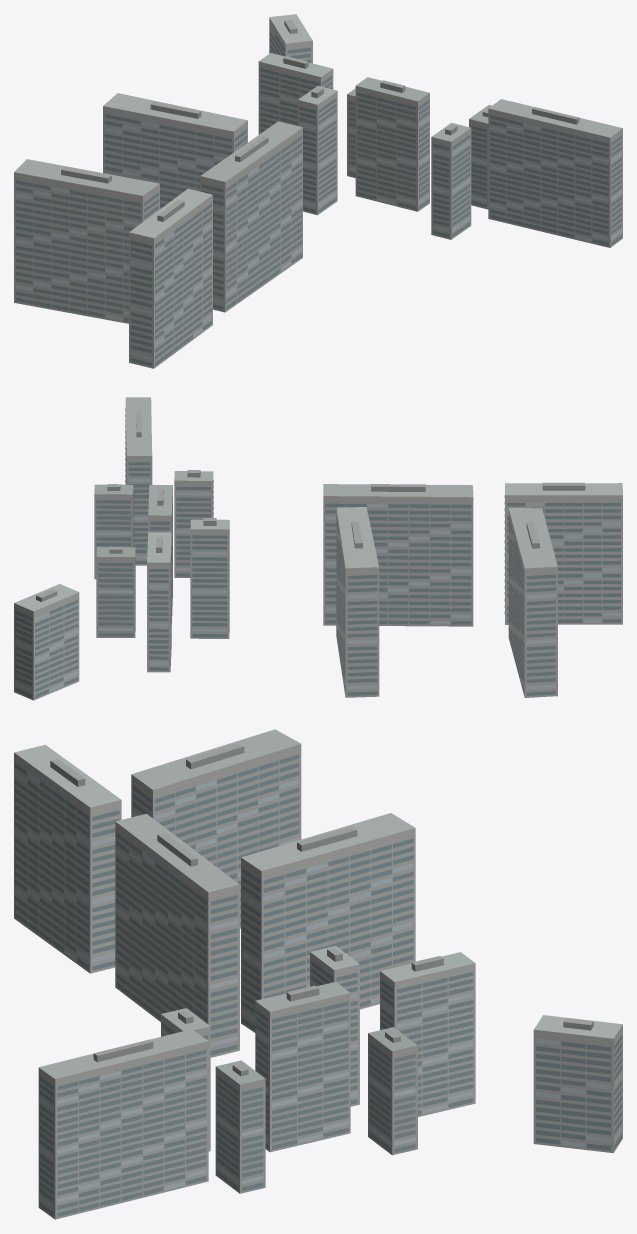
The model's file is apt-a13603701.glb.
The picture shows the model from 3 angles, top to bottom: view 1: azimuth 30°, elevation 25°; view 2: azimuth 150°, elevation 25°; view 3: azimuth 270°, elevation 25°; orthographic projection. The views are drawn at different scales.
Visible parts, largest first — view 1: apt-a13603701; view 2: apt-a13603701; view 3: apt-a13603701.
Part boxes in pixels (left/top/right/bottom): apt-a13603701: left=14, top=14, right=622, bottom=368; apt-a13603701: left=14, top=397, right=622, bottom=700; apt-a13603701: left=14, top=729, right=622, bottom=1219.
Size of the model in its own units: 255 by 63.4 by 203.
